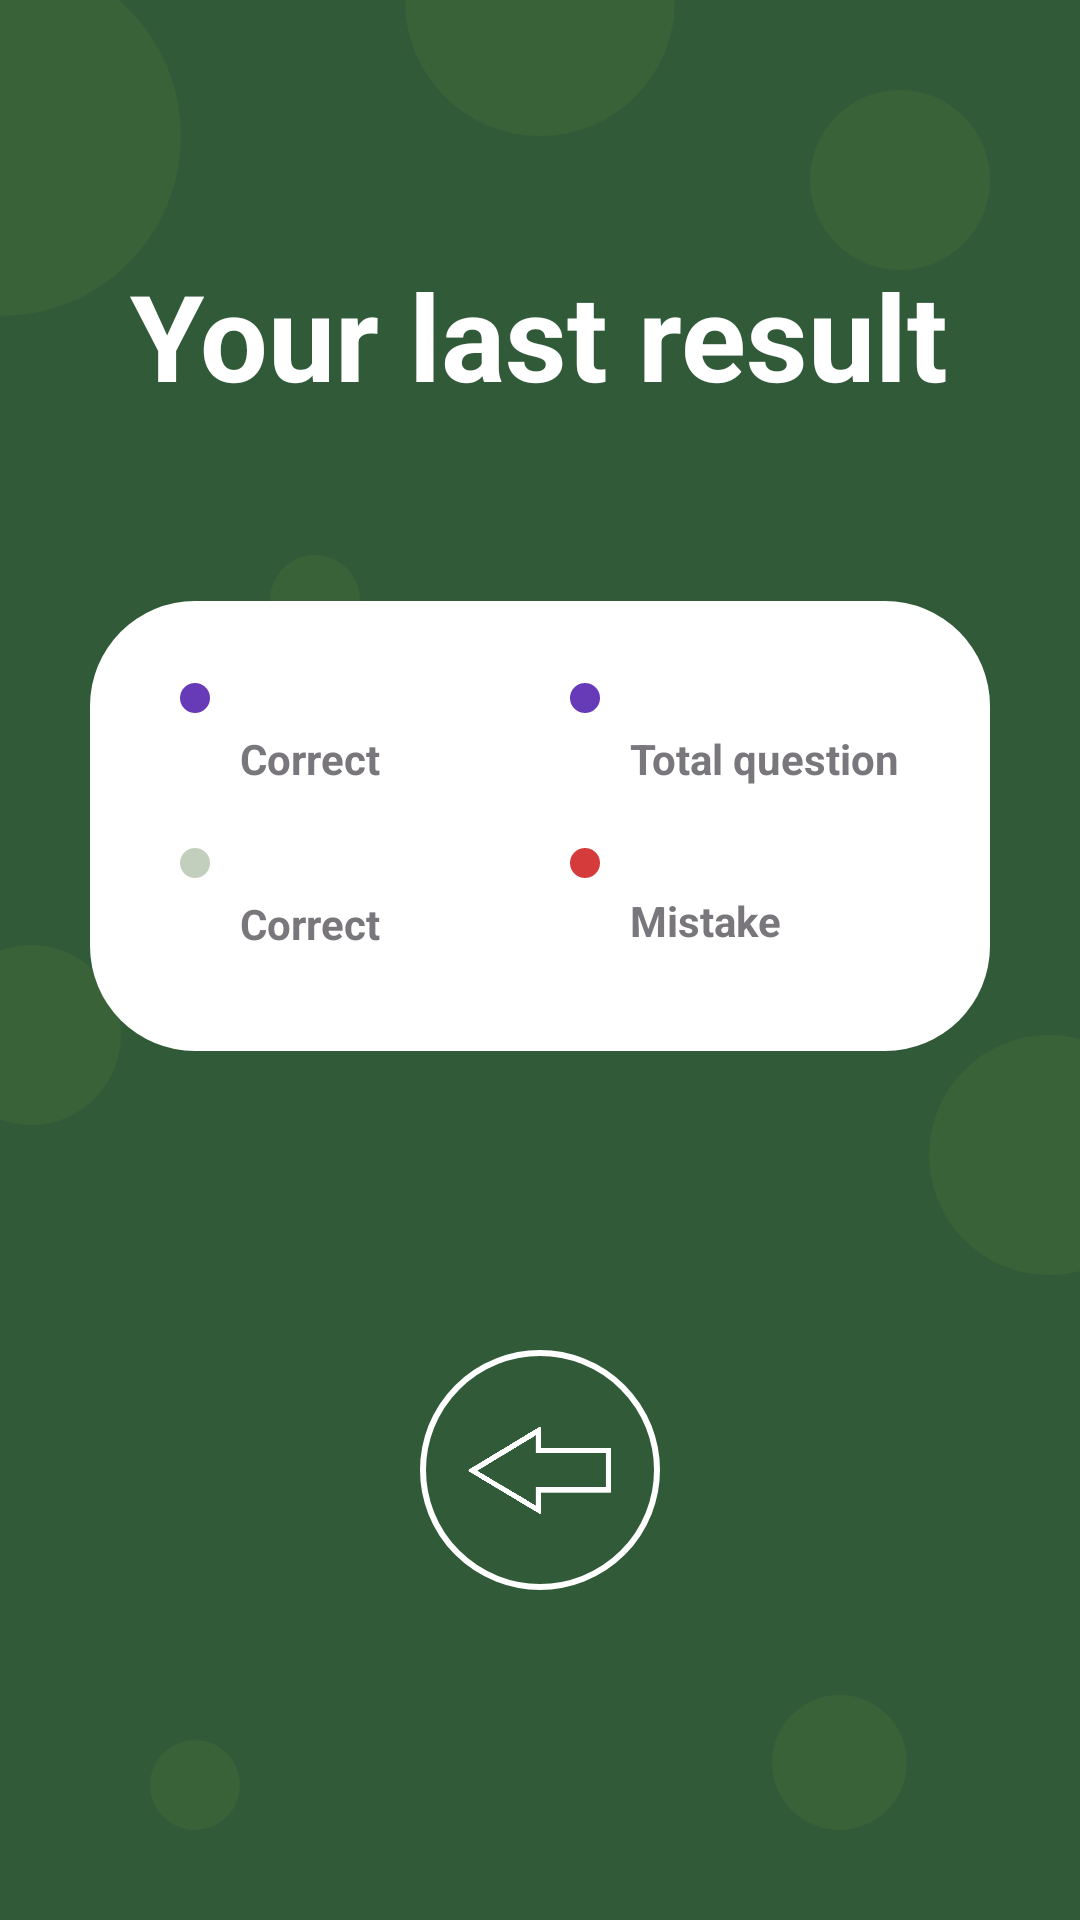

Point at icon controls on the screen. Image size 1080px×1920px, points as [x,y].
prev: [540,1470]
